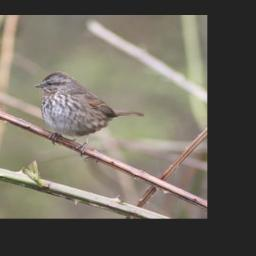Sparrow: (31, 69, 148, 157)
